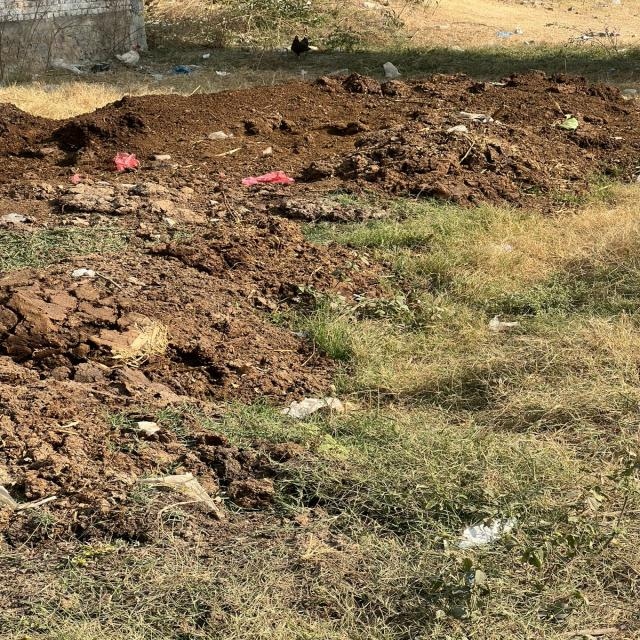garbage: (7, 222, 316, 551), (8, 81, 640, 212)
